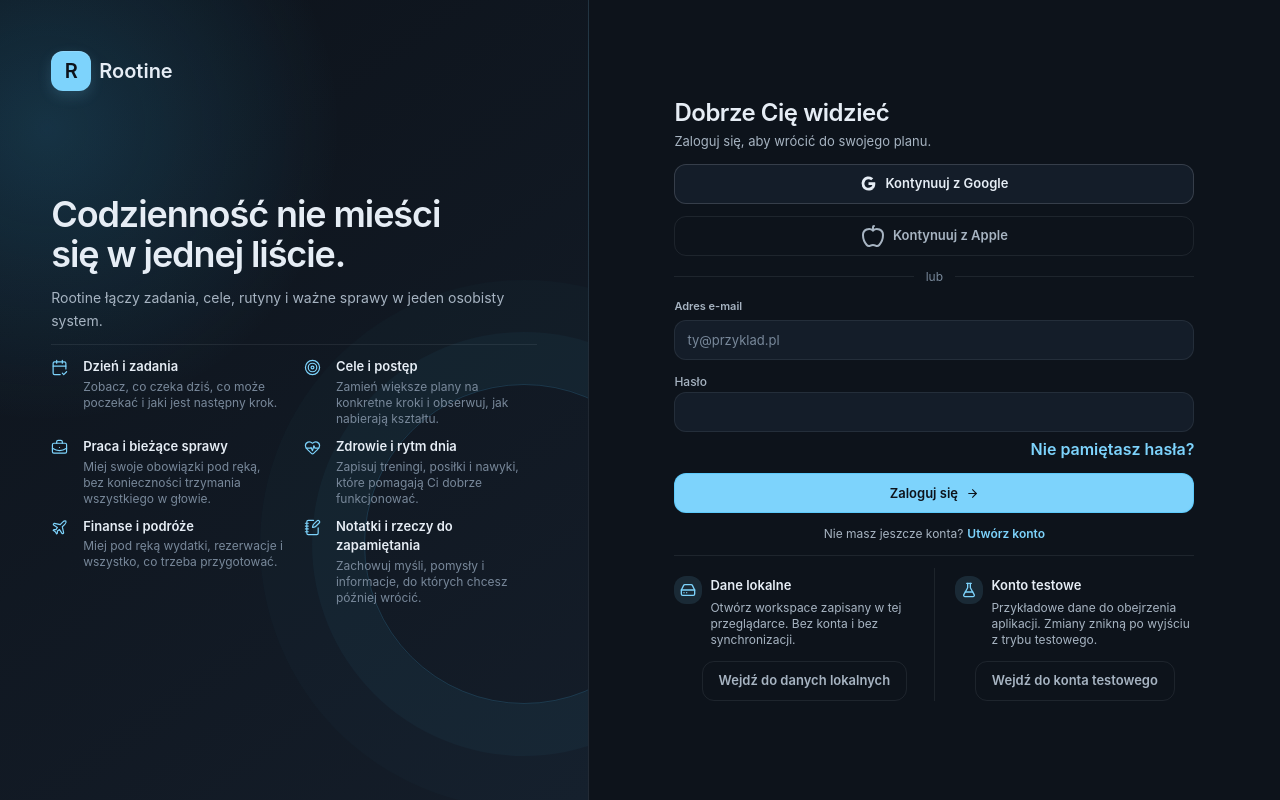
Test: AuthScreen › sends a password reset only after a valid email is entered
This screenshot has width=1280, height=800.
Click the button "Nie pamiętasz hasła?" at point(1112, 449), box x1=1030 y1=437 x2=1194 y2=461
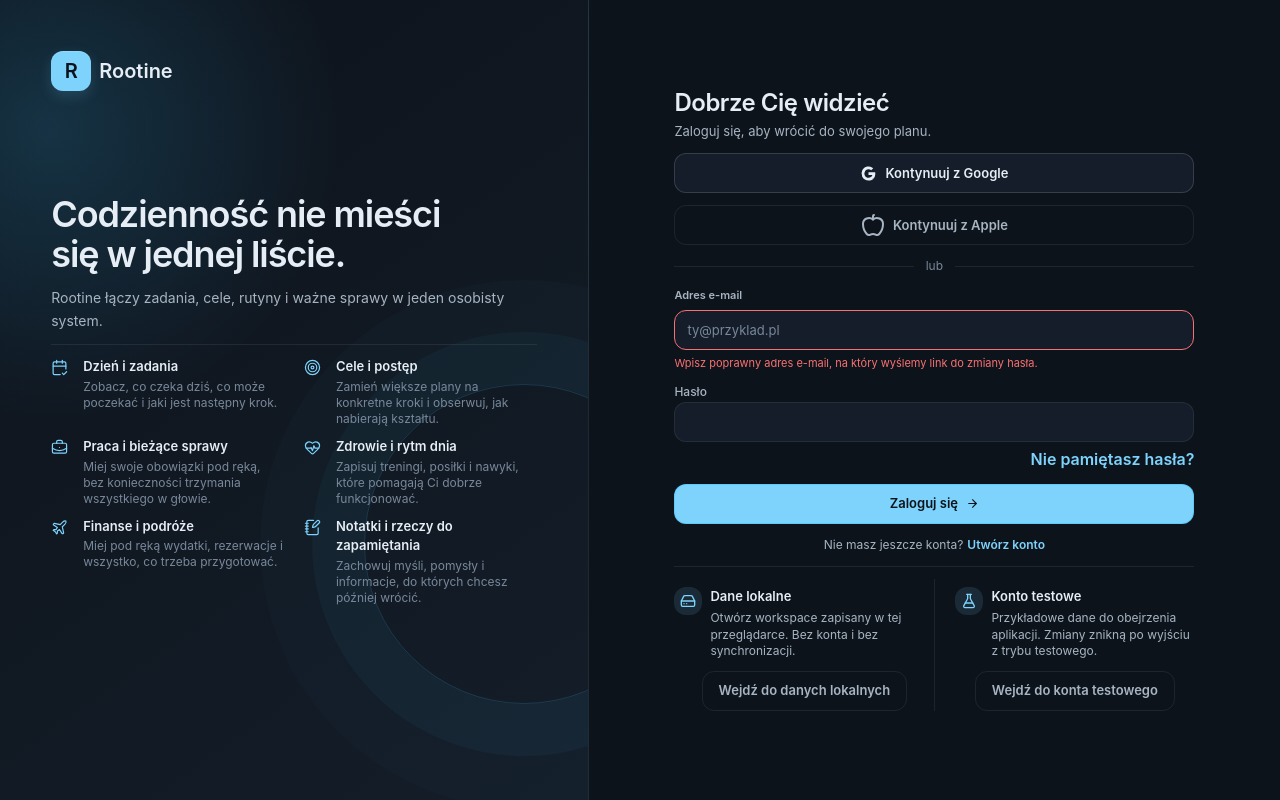
Check: the text "Wpisz poprawny adres e-mail, na który wyślemy link do zmiany hasła." is shown, box x1=674 y1=356 x2=1038 y2=370
Type "ola@example.com" into the field labelled "Adres e-mail" at point(934, 330), box x1=674 y1=310 x2=1194 y2=350
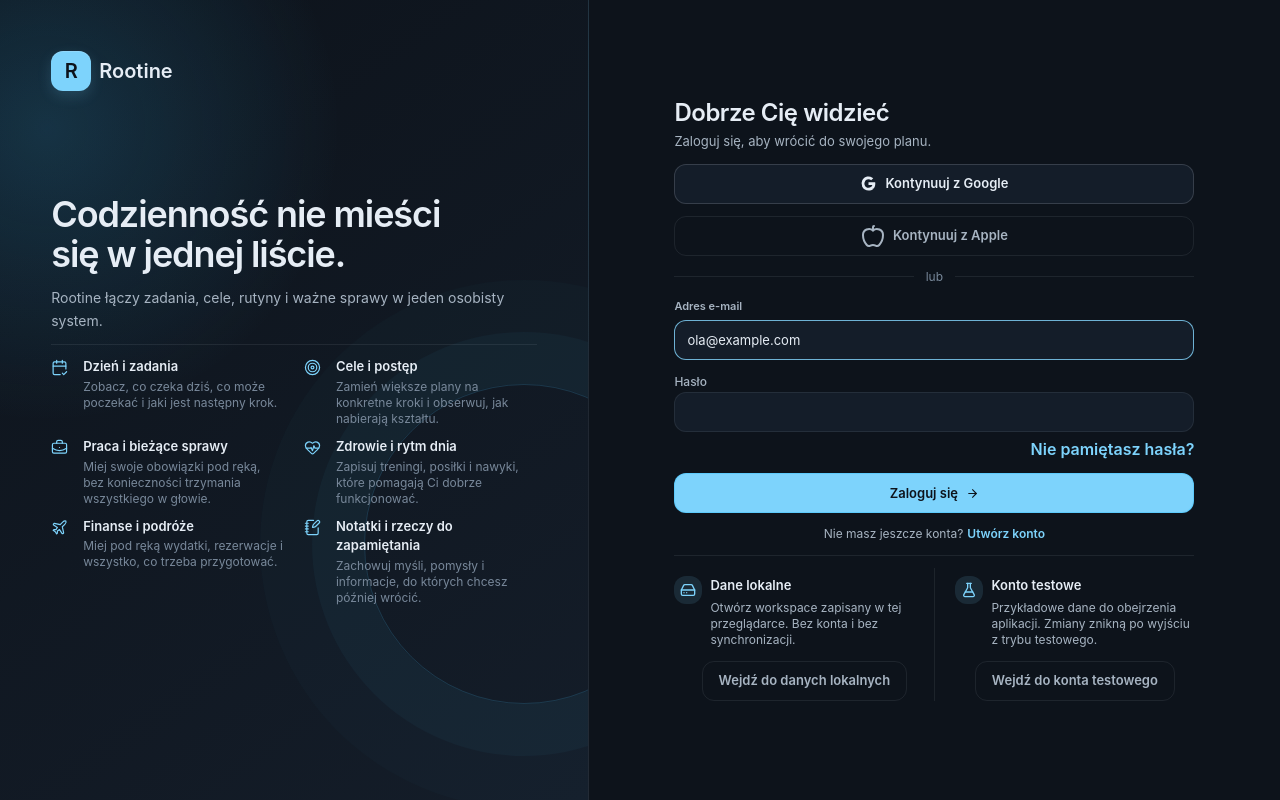
Click the button "Nie pamiętasz hasła?" at point(1112, 449), box x1=1030 y1=437 x2=1194 y2=461
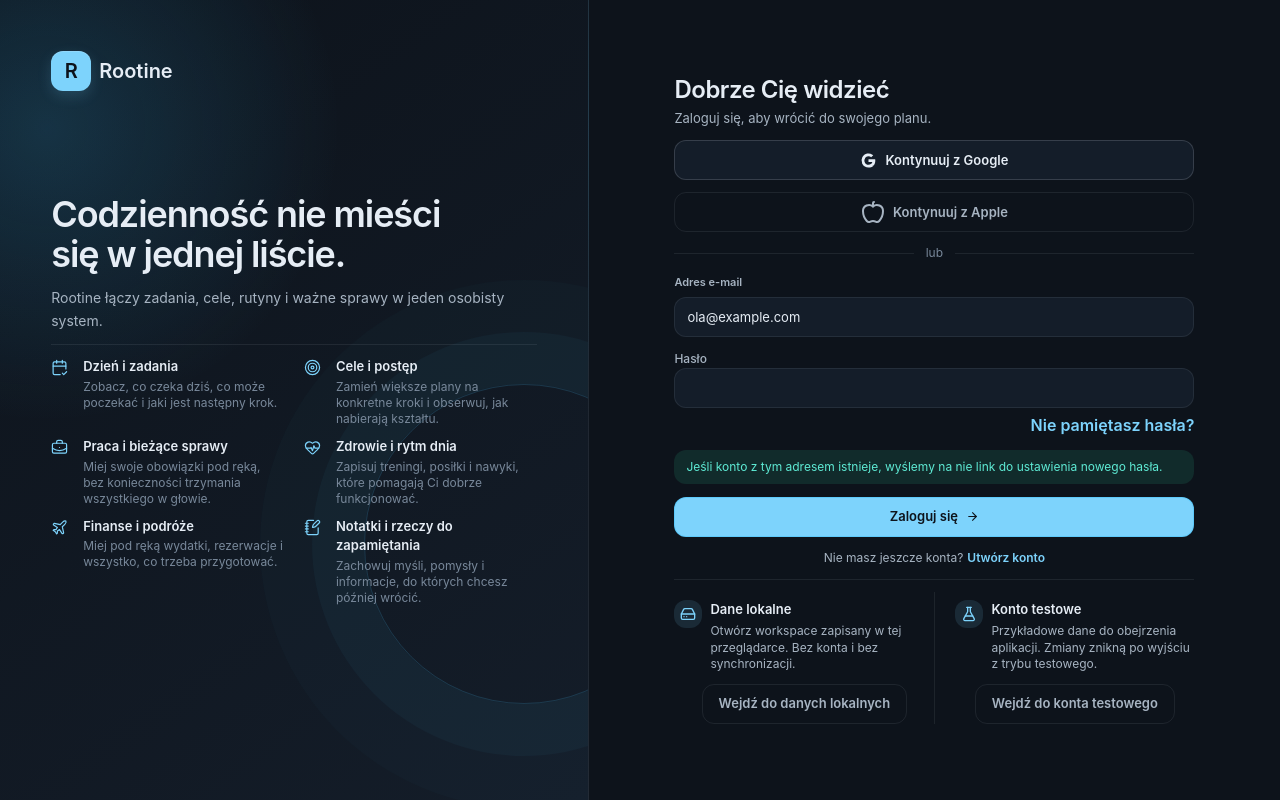
Check: the text "Jeśli konto z tym adresem istnieje" is shown, box x1=686 y1=459 x2=1162 y2=474
